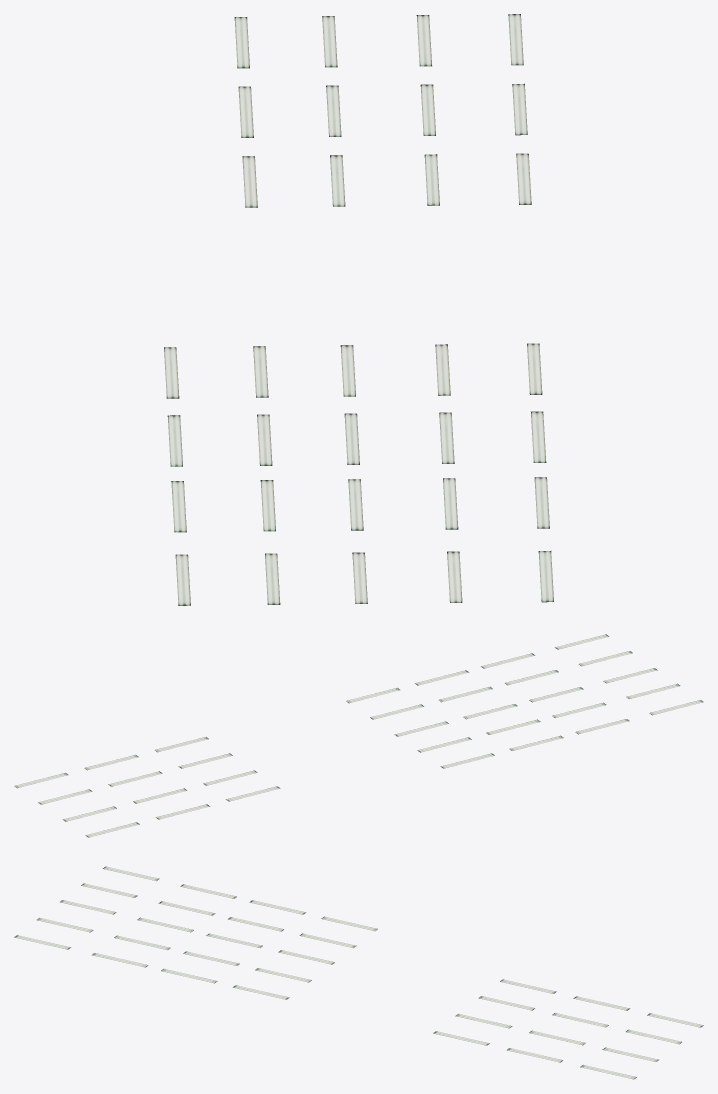
The model's file is lamps.fbx.
3 renders of one model, top to bottom at view 1: azimuth 30°, elevation 25°; view 2: azimuth 150°, elevation 25°; view 3: azimuth 270°, elevation 25°, orthographic. The views are drawn at different scales.
Visible parts, largest first — view 1: lamps; view 2: lamps; view 3: lamps.
Part boxes in pixels (box(x1,y1,x2,y2)): lamps: box(164, 14, 553, 605); lamps: box(14, 634, 703, 837); lamps: box(14, 866, 703, 1079).
Size of the model in its own units: 4799 by 9.85 by 6539.
